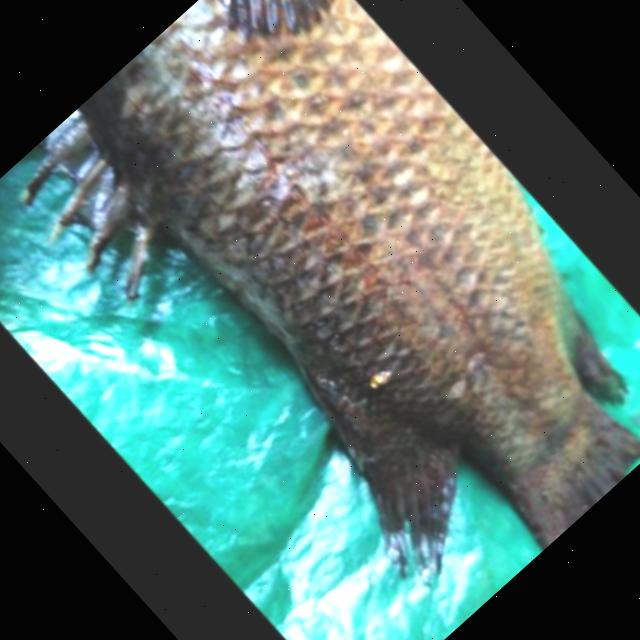Columnaris Disease: (22, 0, 640, 572), (21, 0, 640, 571)
